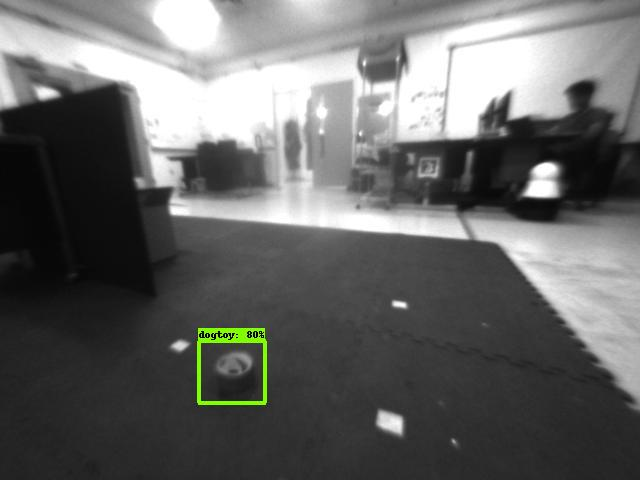dogtoy: (199, 343, 267, 397)
